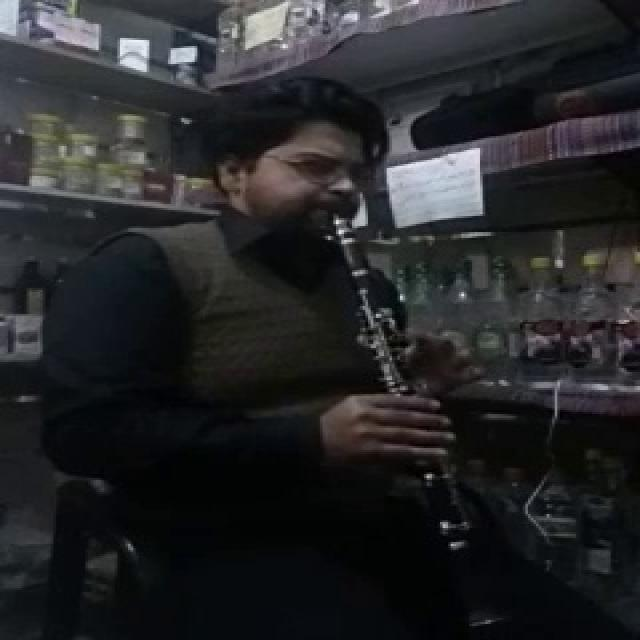Clarinet: (320, 208, 536, 638)
